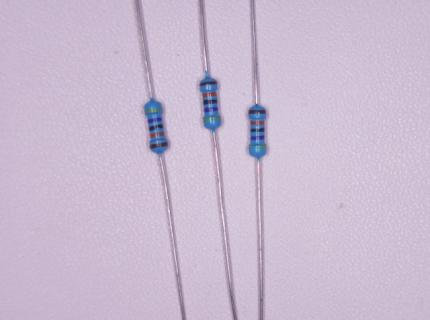Black band: (148, 124, 164, 132), (203, 99, 218, 105), (250, 128, 265, 132)
Brown band: (149, 142, 169, 150), (199, 81, 218, 87), (248, 109, 266, 114)
Orange band: (150, 132, 165, 138), (202, 92, 217, 98), (250, 121, 265, 125)
Violet band: (147, 118, 163, 124), (203, 107, 218, 113), (250, 135, 265, 140)
Yellow band: (203, 116, 222, 122), (145, 109, 163, 113), (249, 146, 267, 150)
